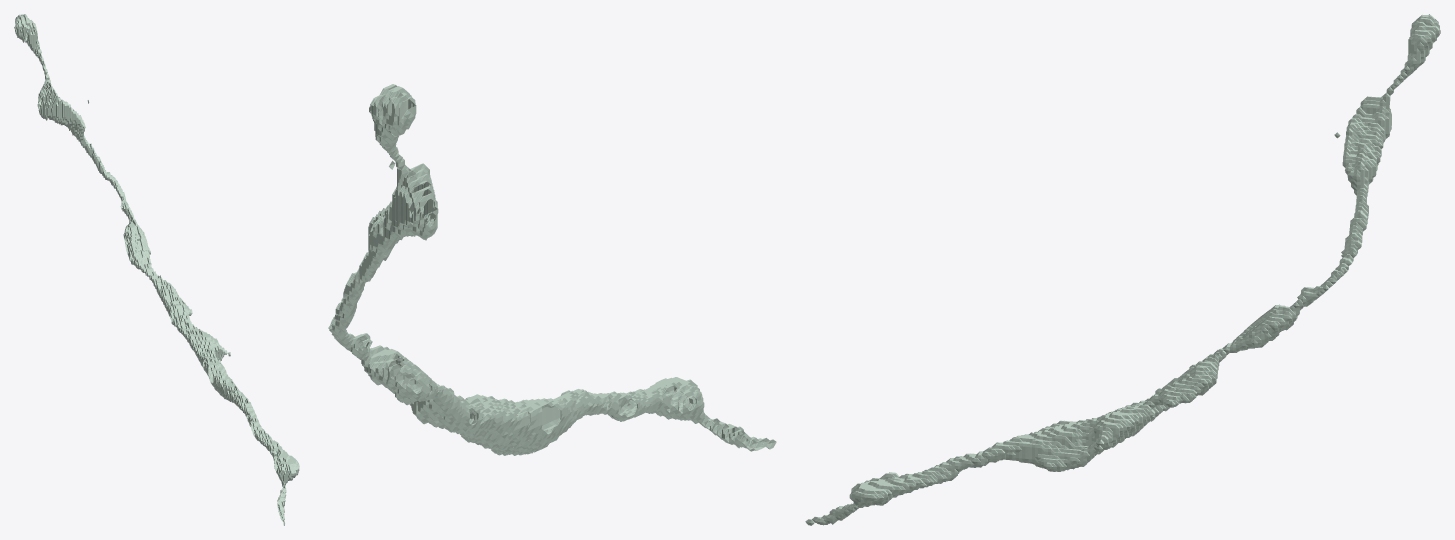
File: SVV_ASGL.gltf
3 views of the same model, side by side, from view 1: azimuth 30°, elevation 25°; view 2: azimuth 150°, elevation 25°; view 3: azimuth 270°, elevation 25° (orthographic). The views are drawn at different scales.
Visible parts, largest first — view 1: ASGL; view 2: ASGL; view 3: ASGL.
Boxes of the visible parts, box(x1,y1,x2,y2) form: ASGL: box(14, 14, 299, 525); ASGL: box(328, 84, 776, 455); ASGL: box(805, 14, 1440, 525).
Size of the model in its own units: 30483 by 106195 by 126311.
